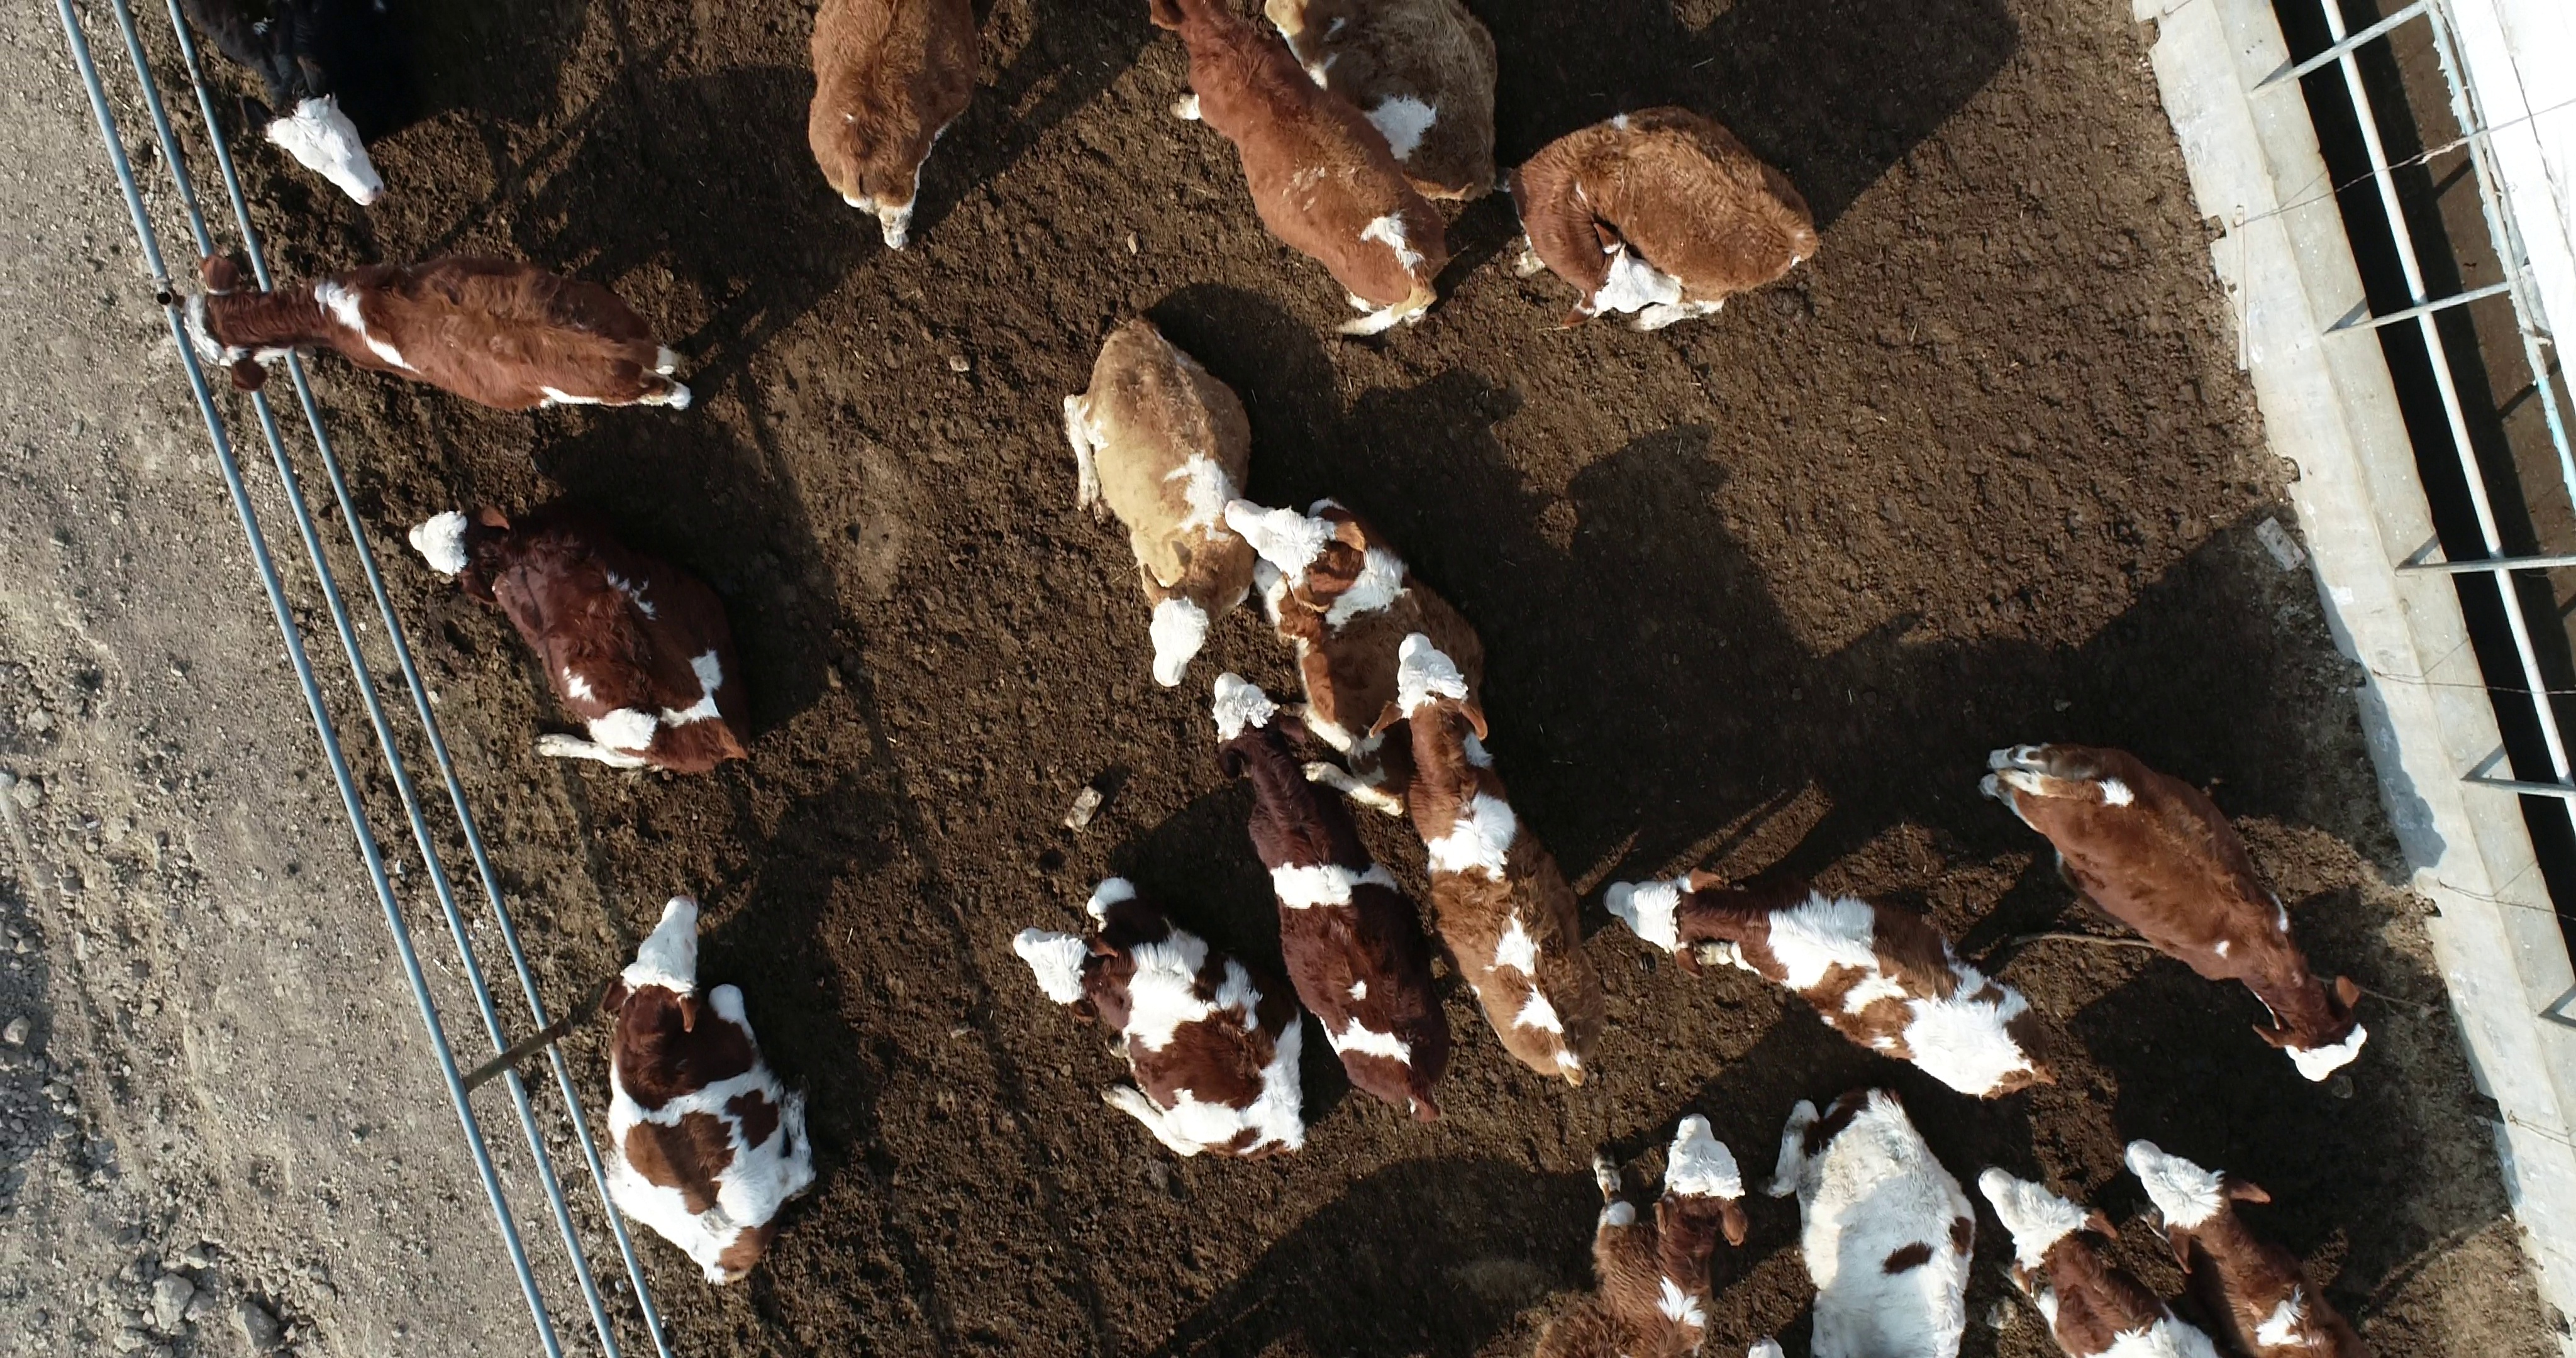cattle: (1973, 733, 2375, 1084), (1206, 665, 1458, 1130), (1598, 857, 2065, 1101), (400, 489, 779, 787), (1143, 2, 1455, 341), (1389, 624, 1608, 1094), (593, 886, 823, 1297), (162, 252, 697, 424), (1007, 871, 1317, 1167), (1503, 101, 1825, 339), (1058, 312, 1254, 690)
